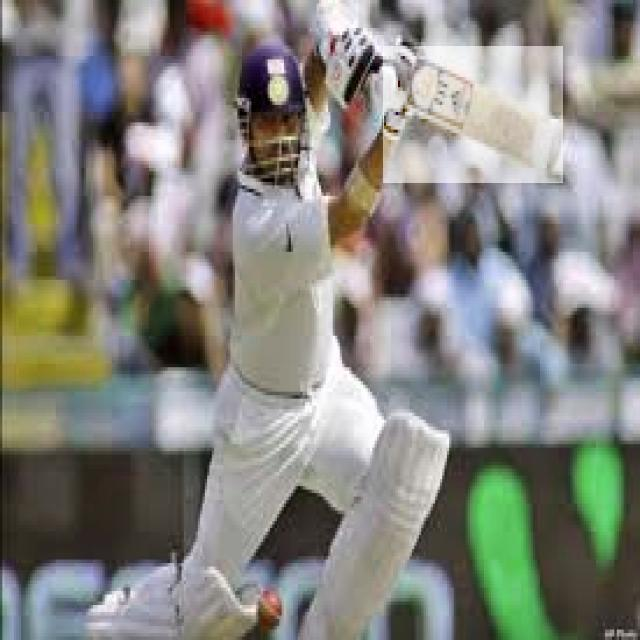bat: (384, 45, 563, 181)
toe: (533, 136, 571, 168)
